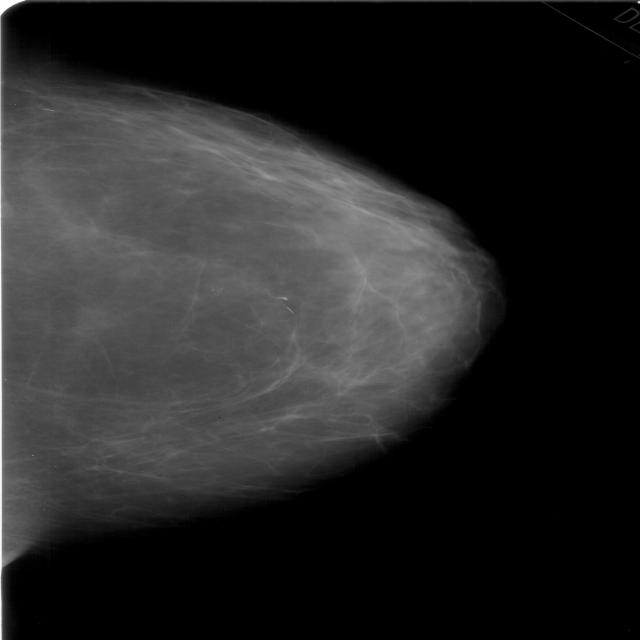normal: (0, 71, 500, 546)
